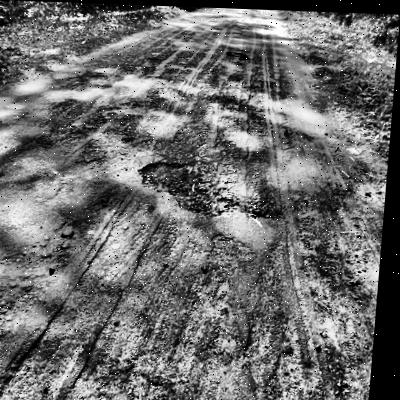pothole: (135, 156, 243, 215), (227, 48, 249, 58)
